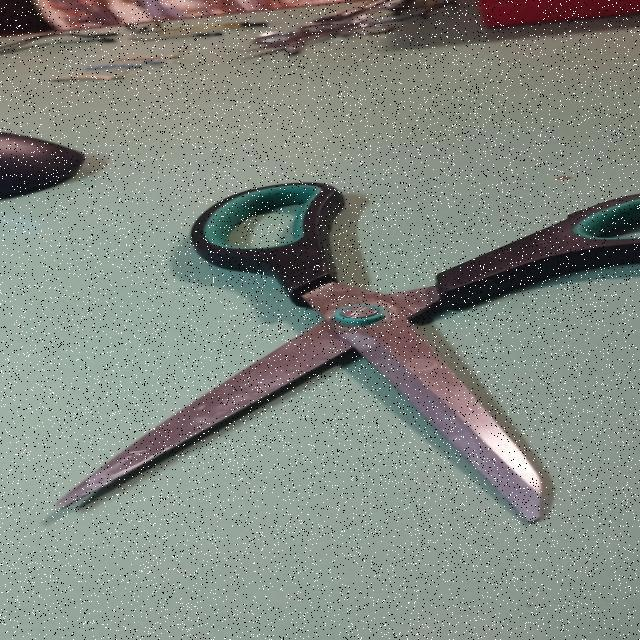scissors: (64, 181, 640, 524)
